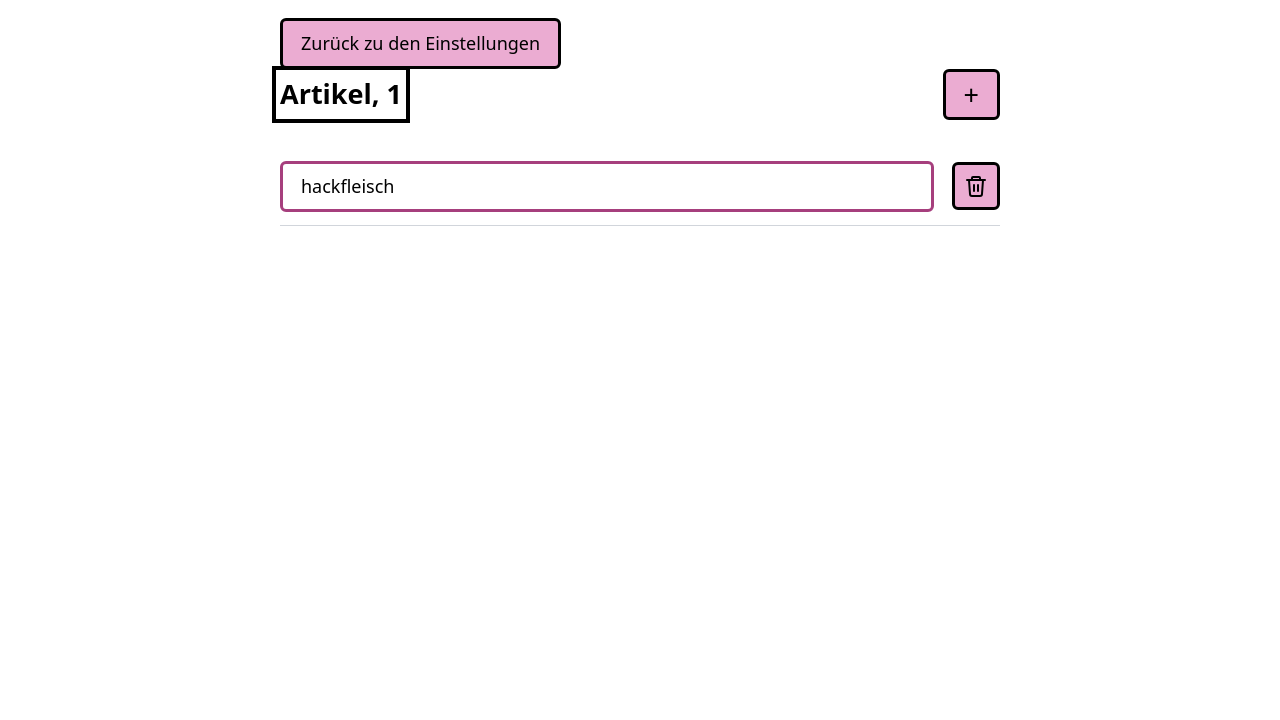
Test: KnownItemsArea › starts the form with the current name in focus
Click the button "hackfleisch" at point(348, 186), box [280,160,934,212]
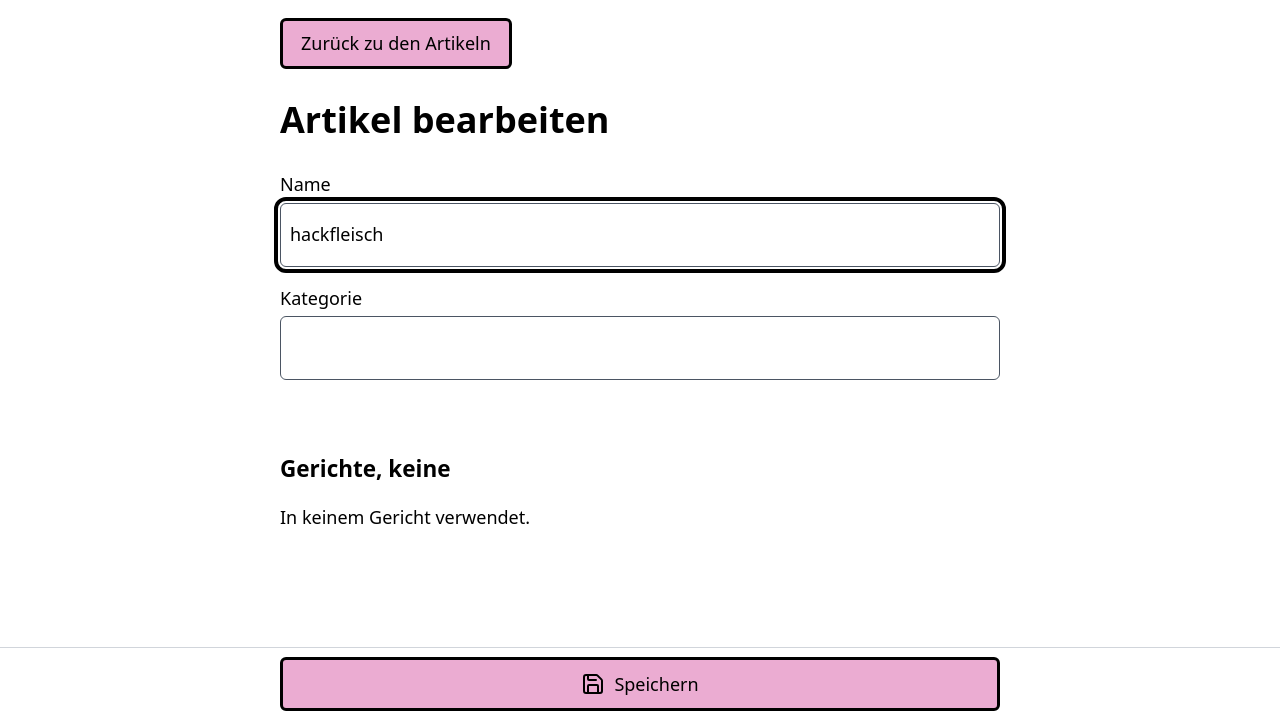
Check: the field labelled "Name" holds "hackfleisch", box [280,203,1000,267]
